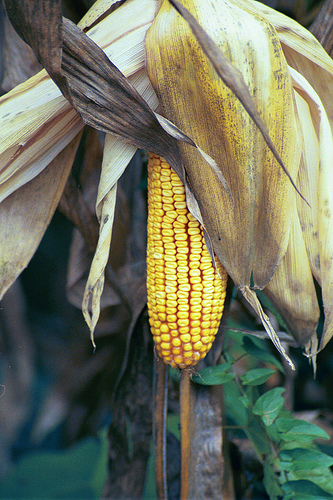corn: (145, 147, 226, 366)
